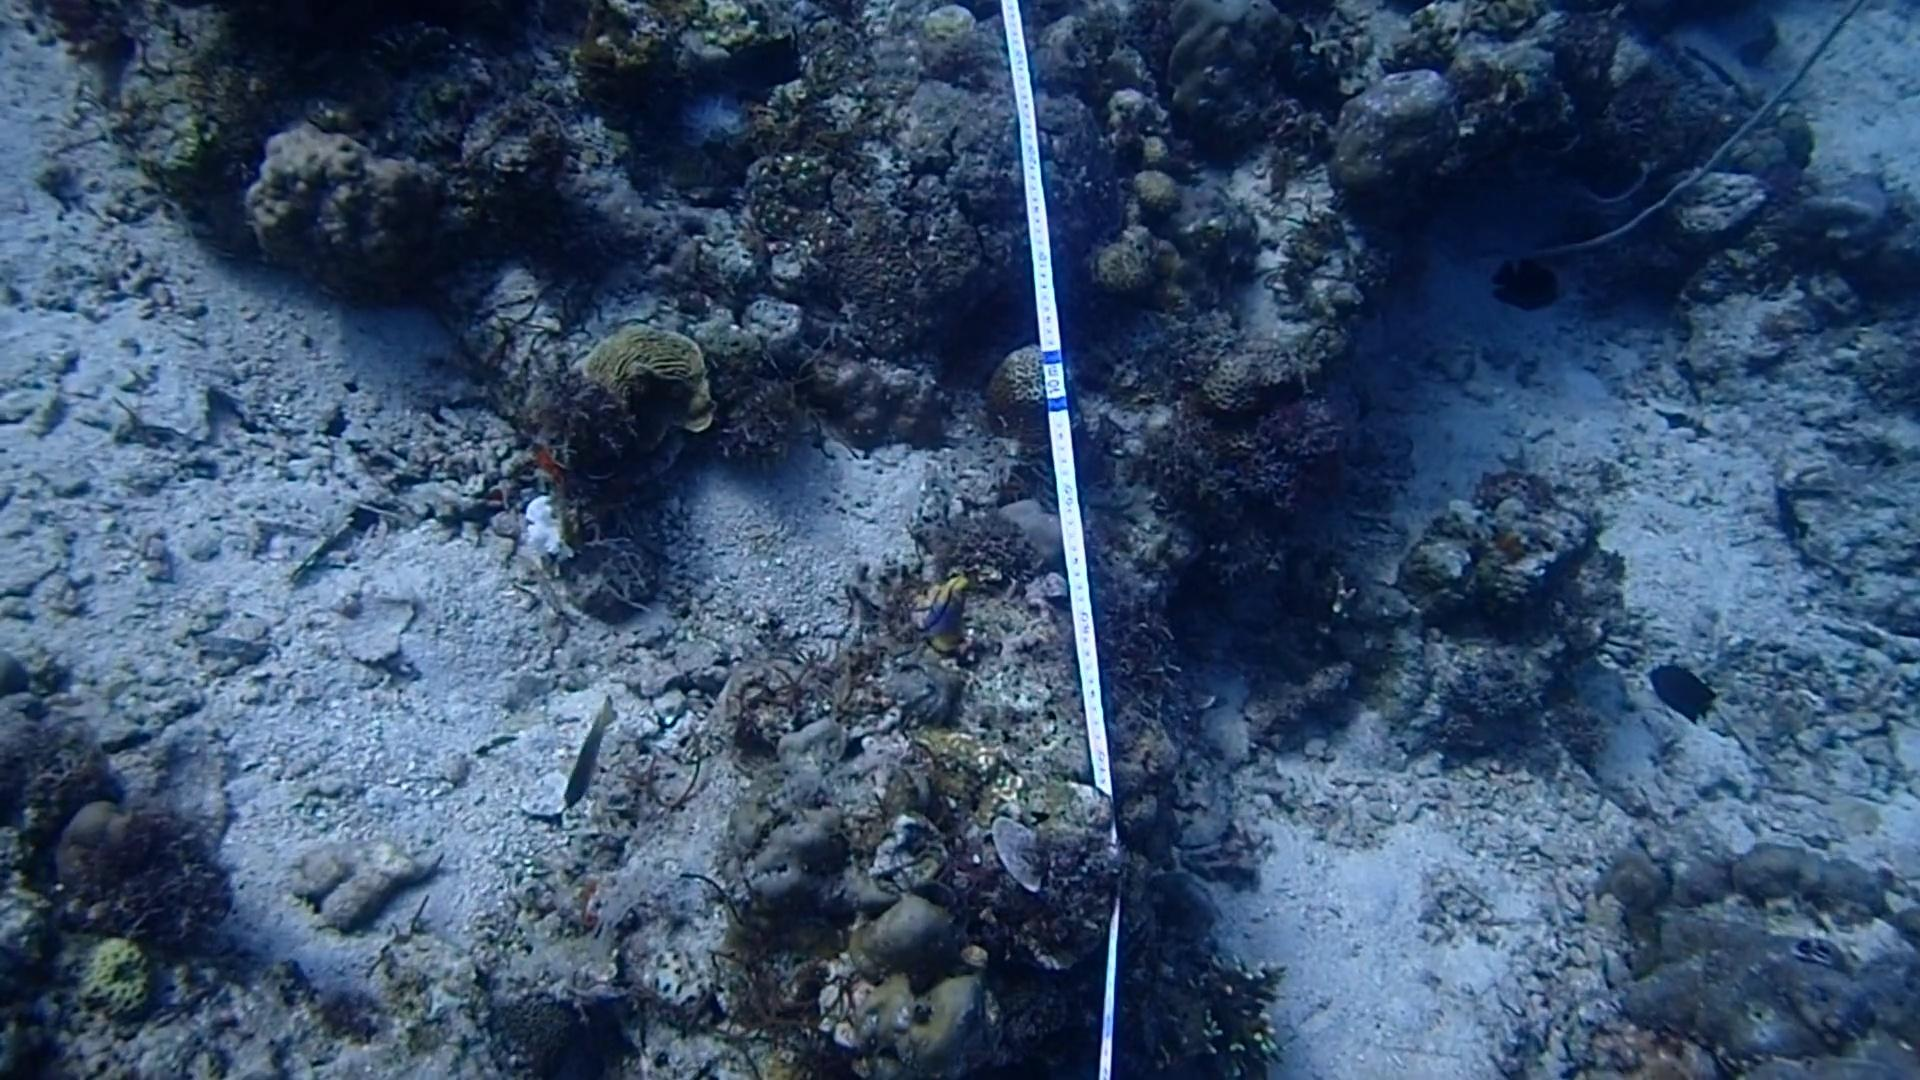Dark Fish: (1642, 649, 1722, 729), (1485, 251, 1569, 320), (720, 30, 808, 94)
Light Fish: (547, 686, 628, 814)
